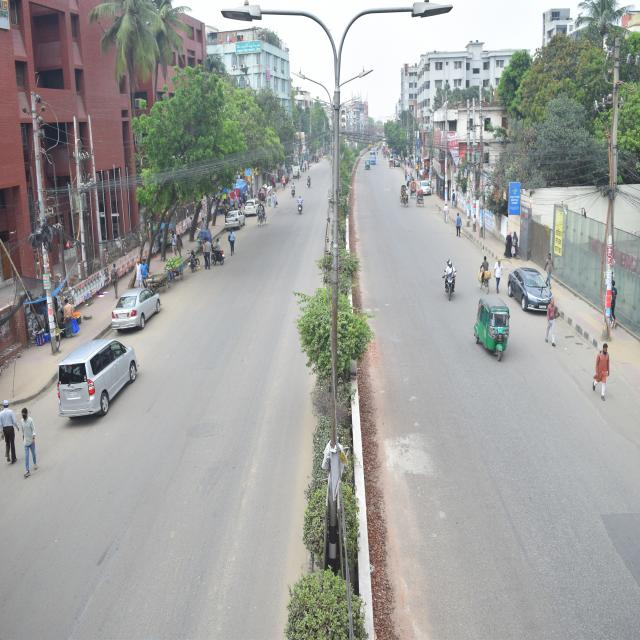car: (54, 324, 140, 427), (507, 248, 557, 330), (113, 271, 165, 340), (222, 199, 246, 242), (243, 190, 263, 230), (418, 172, 442, 205)
motorbike: (434, 247, 456, 302), (208, 230, 230, 276), (294, 197, 316, 221), (286, 181, 299, 205), (304, 173, 316, 189)
pickup-van: (370, 149, 380, 171)
